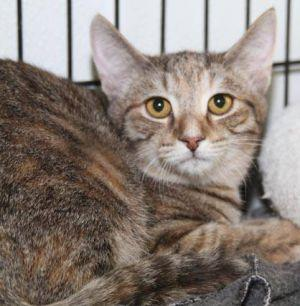bengal: (85, 4, 292, 183)
